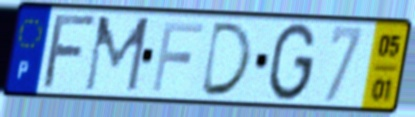7: (322, 22, 369, 105)
D: (197, 20, 255, 98)
F: (39, 13, 102, 91), (149, 19, 206, 94)
G: (264, 21, 319, 105)
M: (81, 14, 153, 95)
